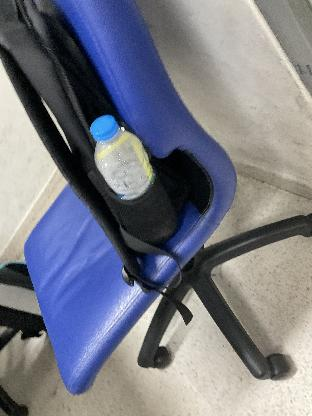Plastic Bottle: (88, 112, 160, 202)
